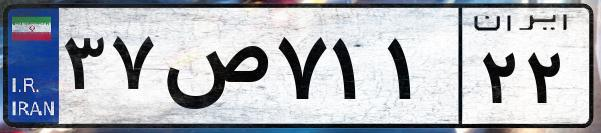1: (385, 28, 445, 110), (330, 28, 385, 110)
2: (475, 38, 525, 113), (525, 38, 570, 115)
3: (57, 26, 110, 100)
7: (270, 28, 330, 110), (110, 28, 158, 98)
ص: (158, 20, 270, 120)
